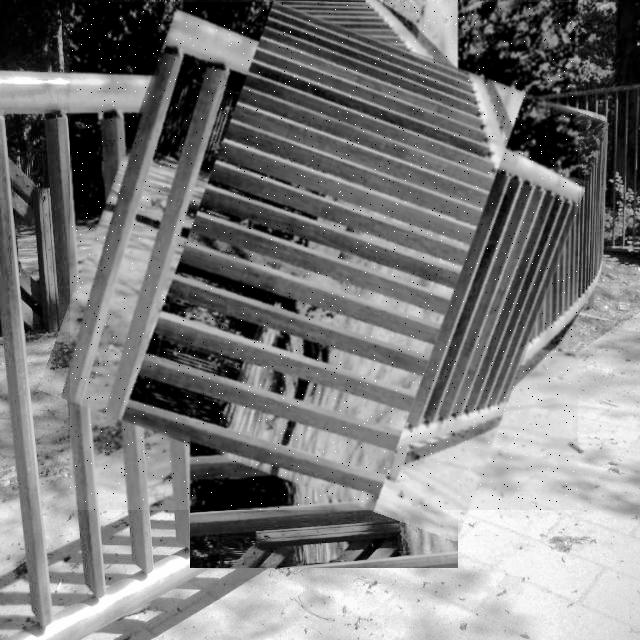fences: (70, 2, 578, 510)
